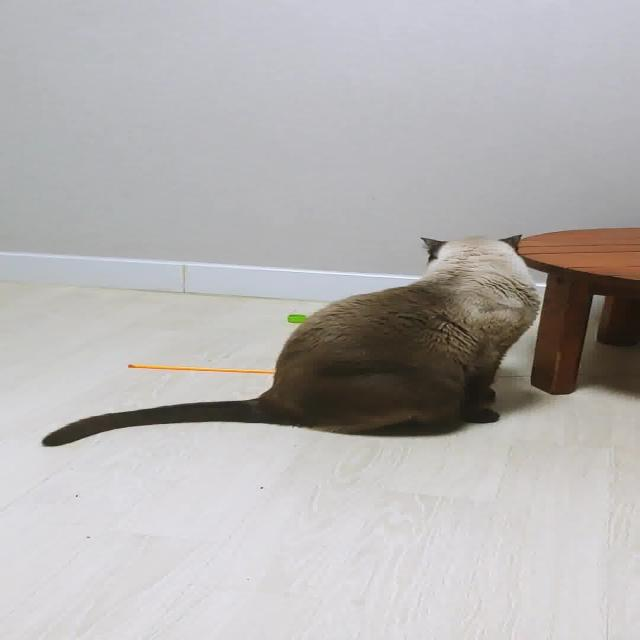cat: (35, 228, 544, 450)
